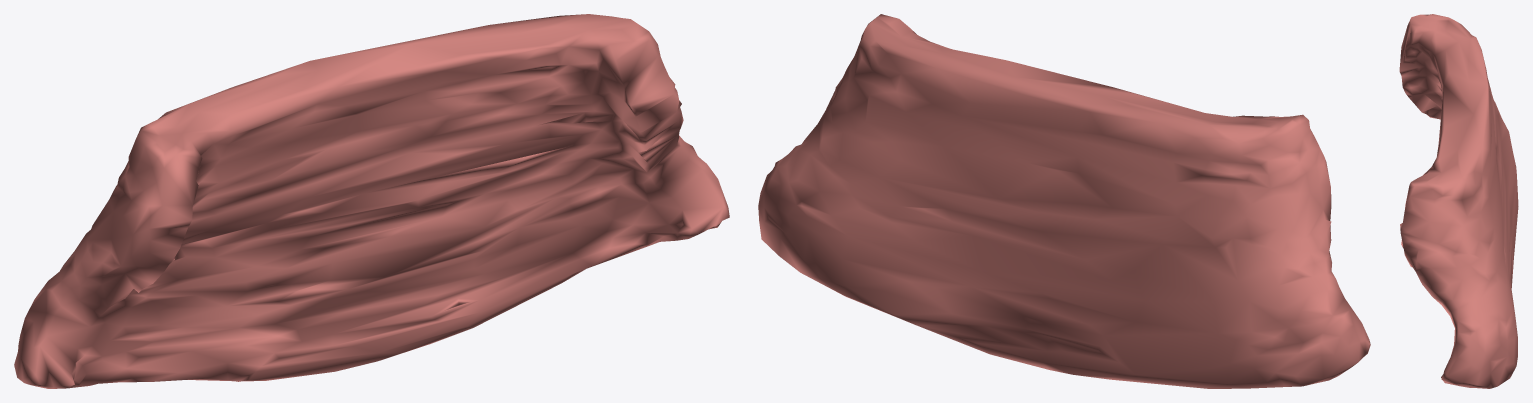
The picture shows the model from 3 angles, left to right: view 1: azimuth 30°, elevation 25°; view 2: azimuth 150°, elevation 25°; view 3: azimuth 270°, elevation 25°; orthographic projection. The views are drawn at different scales.
Parts seen in each view (by area): view 1: ZA_aca66740b7e07872; view 2: ZA_aca66740b7e07872; view 3: ZA_aca66740b7e07872.
Part boxes in pixels (<box>): ZA_aca66740b7e07872: <box>14,14,729,388</box>; ZA_aca66740b7e07872: <box>758,14,1370,388</box>; ZA_aca66740b7e07872: <box>1399,14,1518,388</box>.
Size of the model in its own units: 0.0147 by 0.00623 by 0.00306.
